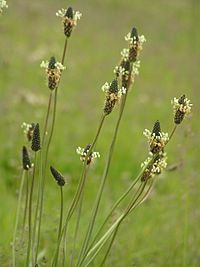buckhorn plantain: (15, 6, 189, 267)
